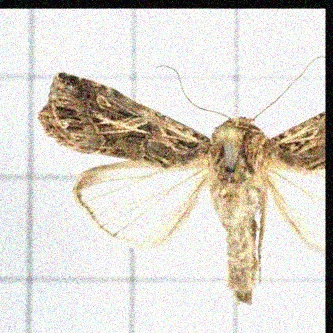Spodoptera litura: (36, 55, 325, 306)
